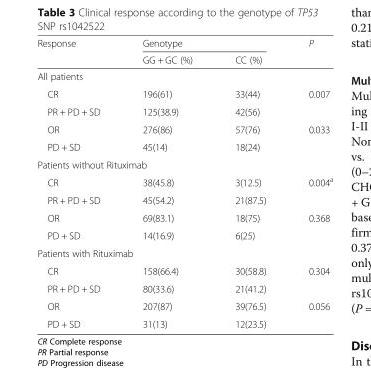table: (36, 37, 332, 329)
table column: (120, 37, 213, 329), (36, 37, 120, 329), (213, 37, 286, 329), (286, 37, 332, 329)
table column header: (36, 37, 332, 67)
table projected row header: (36, 67, 332, 84), (36, 155, 332, 172), (36, 244, 332, 261)
table row: (36, 84, 332, 102), (36, 102, 332, 120), (36, 137, 332, 155), (36, 172, 332, 190), (36, 190, 332, 208), (36, 208, 332, 226), (36, 226, 332, 244), (36, 261, 332, 279), (36, 279, 332, 297), (36, 50, 332, 67), (36, 67, 332, 84), (36, 120, 332, 137), (36, 155, 332, 172), (36, 244, 332, 261), (36, 297, 332, 314), (36, 314, 332, 329), (36, 37, 332, 50)
table spanning cell: (36, 37, 120, 67), (120, 37, 286, 50), (286, 84, 332, 120), (286, 172, 332, 208), (286, 208, 332, 244), (286, 261, 332, 297), (286, 120, 332, 155), (286, 297, 332, 329), (286, 37, 332, 67)
